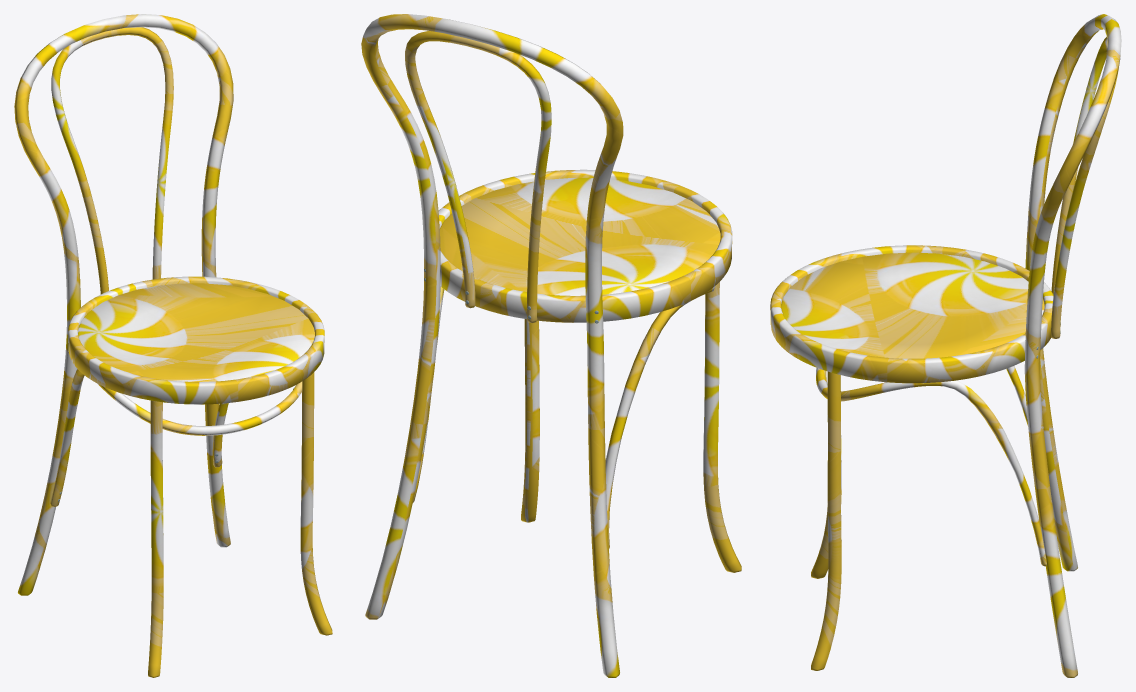
File: bentwood_chair.fbx
3 renders of one model, left to right at view 1: azimuth 30°, elevation 25°; view 2: azimuth 150°, elevation 25°; view 3: azimuth 270°, elevation 25°, orthographic. The views are drawn at different scales.
Visible parts, largest first — view 1: object 5, object 3, object 2, object 4; view 2: object 5, object 3, object 2, object 4; view 3: object 5, object 3, object 2, object 4.
Part boxes in pixels (bbox=[...]): object 5: bbox=[14, 14, 332, 677]; object 3: bbox=[78, 283, 314, 381]; object 2: bbox=[68, 276, 324, 404]; object 4: bbox=[51, 27, 173, 294]; object 5: bbox=[361, 14, 741, 677]; object 3: bbox=[440, 178, 720, 295]; object 2: bbox=[438, 169, 732, 322]; object 4: bbox=[405, 31, 551, 322]; object 5: bbox=[811, 14, 1121, 677]; object 3: bbox=[781, 252, 1044, 358]; object 2: bbox=[770, 245, 1053, 383]; object 4: bbox=[1051, 37, 1119, 338].
Size of the model in its own units: 37.97 by 87.96 by 47.79.
